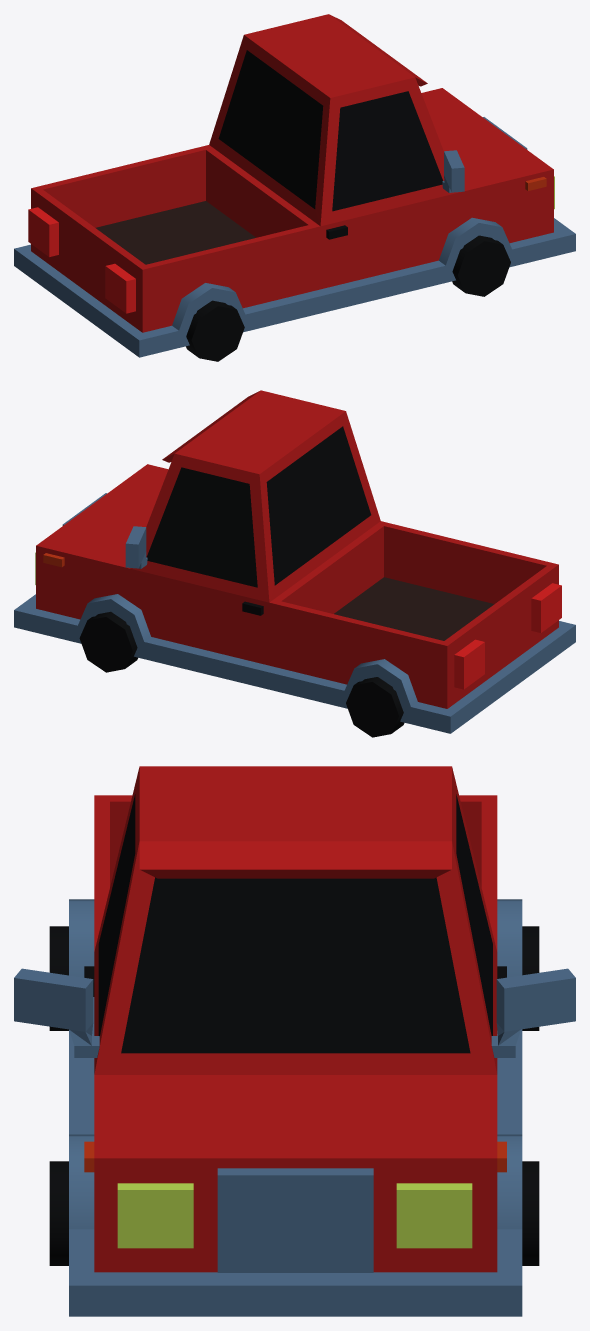
Rendered from Car4.fbx.
The picture shows the model from 3 angles, top to bottom: view 1: azimuth 30°, elevation 25°; view 2: azimuth 150°, elevation 25°; view 3: azimuth 270°, elevation 25°; orthographic projection. The views are drawn at different scales.
Visible parts, largest first — view 1: Car4; view 2: Car4; view 3: Car4.
Boxes of the visible parts, x1,y1,x2,y2 form: Car4: (14,14,575,361); Car4: (14,390,575,737); Car4: (14,766,575,1316).
Bounding box in the file's own units: 22.97 × 10.67 × 14.16.
